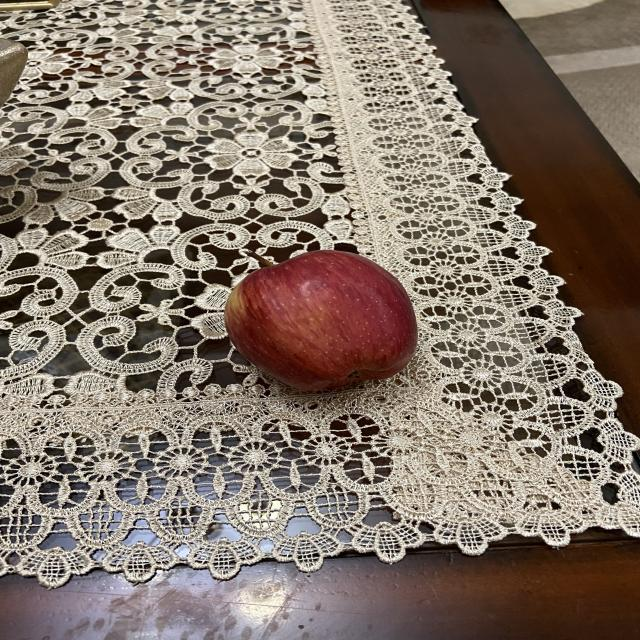apple: (224, 237, 424, 400)
